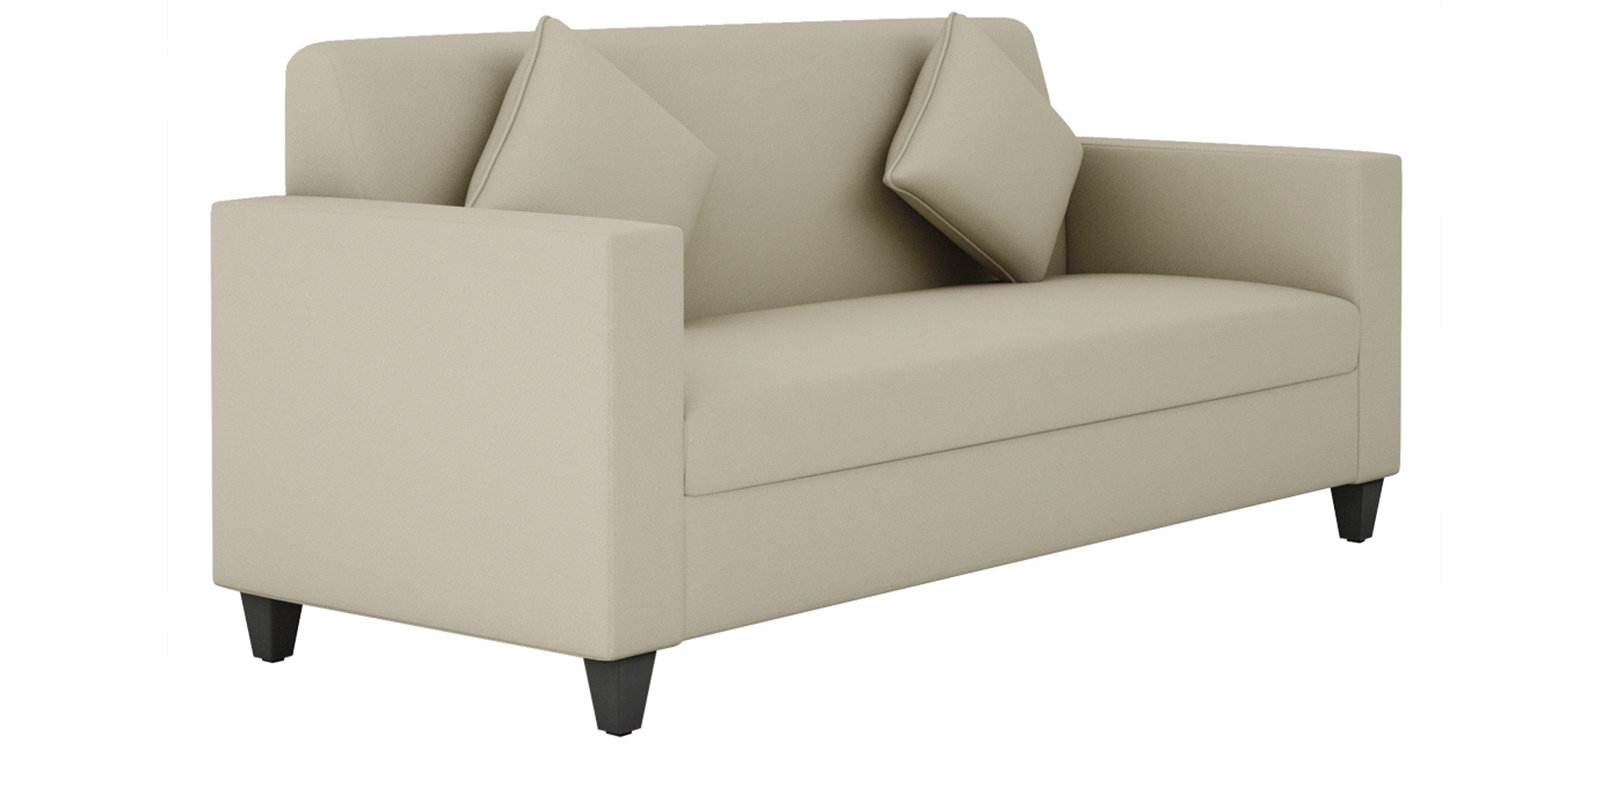Cooper Three Seater Sofa in Beige Colour by ARRA: (200, 9, 1412, 726)
